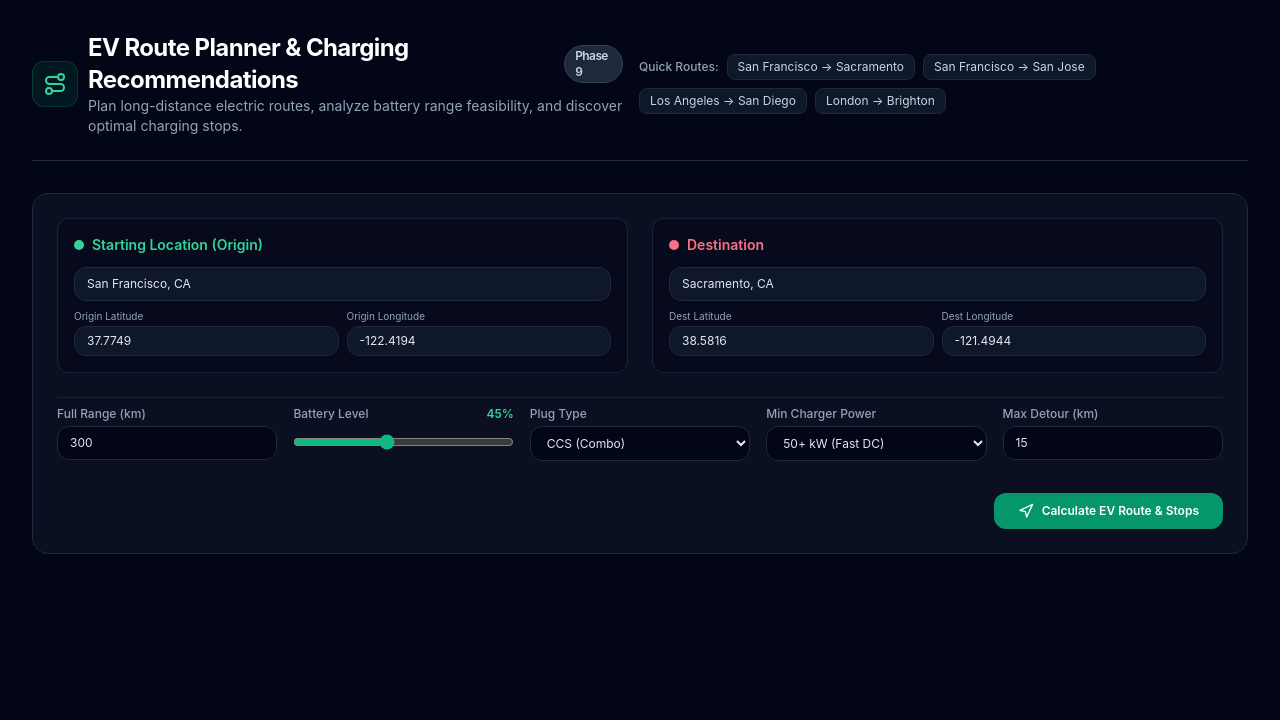
Test: Phase 9: Route Planning & Charging Stop Recommendations › RoutePlannerPage UI Component › clicking preset updates form fields
What coordinates should you click on to do the following:
click the button "Los Angeles → San Diego"
I would click on:
 (723, 101)
Its box is [639,88,807,114].
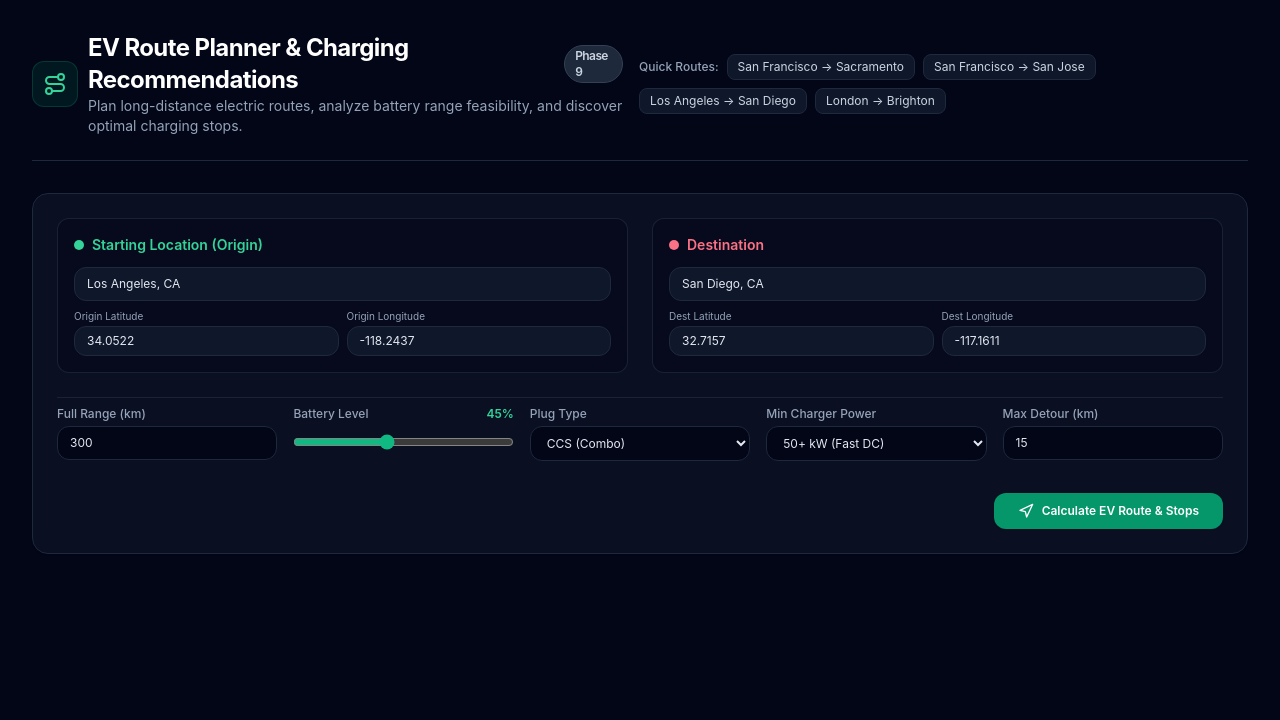
Check: the field showing "Los Angeles, CA" below "Starting Location (Origin)" is shown, box [74,267,611,301]
Check: the field showing "San Diego, CA" below "Destination" is shown, box [669,267,1206,301]
Check: the number field showing "34.0522" below "Origin Latitude" is shown, box [74,326,338,356]
